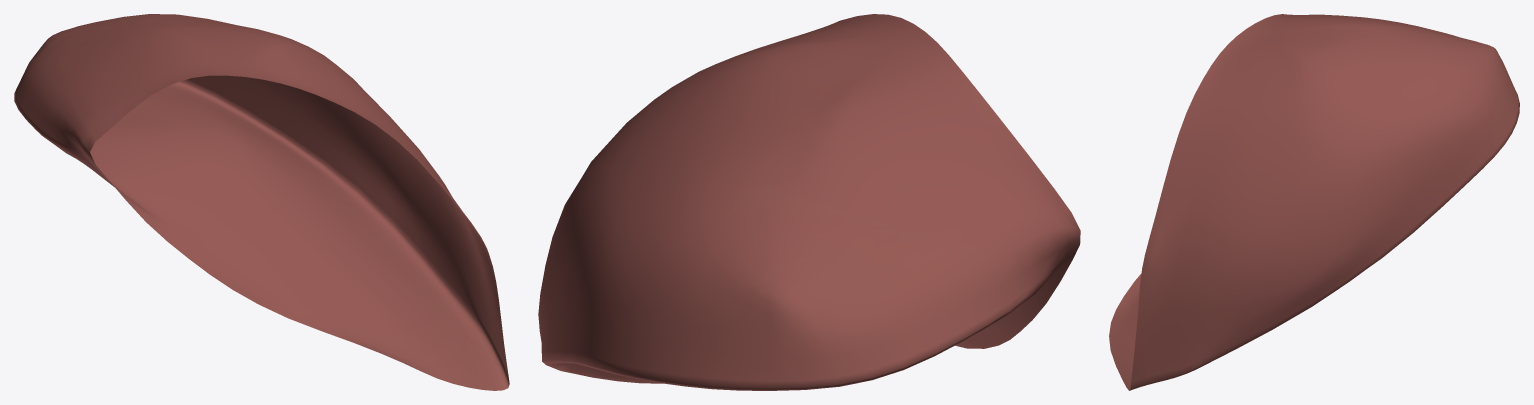
Rendered from liver_right.fbx.
3 views of the same model, side by side, from view 1: azimuth 30°, elevation 25°; view 2: azimuth 150°, elevation 25°; view 3: azimuth 270°, elevation 25° (orthographic). The views are drawn at different scales.
Parts seen in each view (by area): view 1: llobe; view 2: llobe; view 3: llobe.
Part boxes in pixels (<box>): llobe: <box>14,14,509,390</box>; llobe: <box>538,14,1080,390</box>; llobe: <box>1109,14,1519,390</box>.
Bounding box in the file's own units: 3.09 × 2.75 × 3.68.
1 material, 1 textured.
